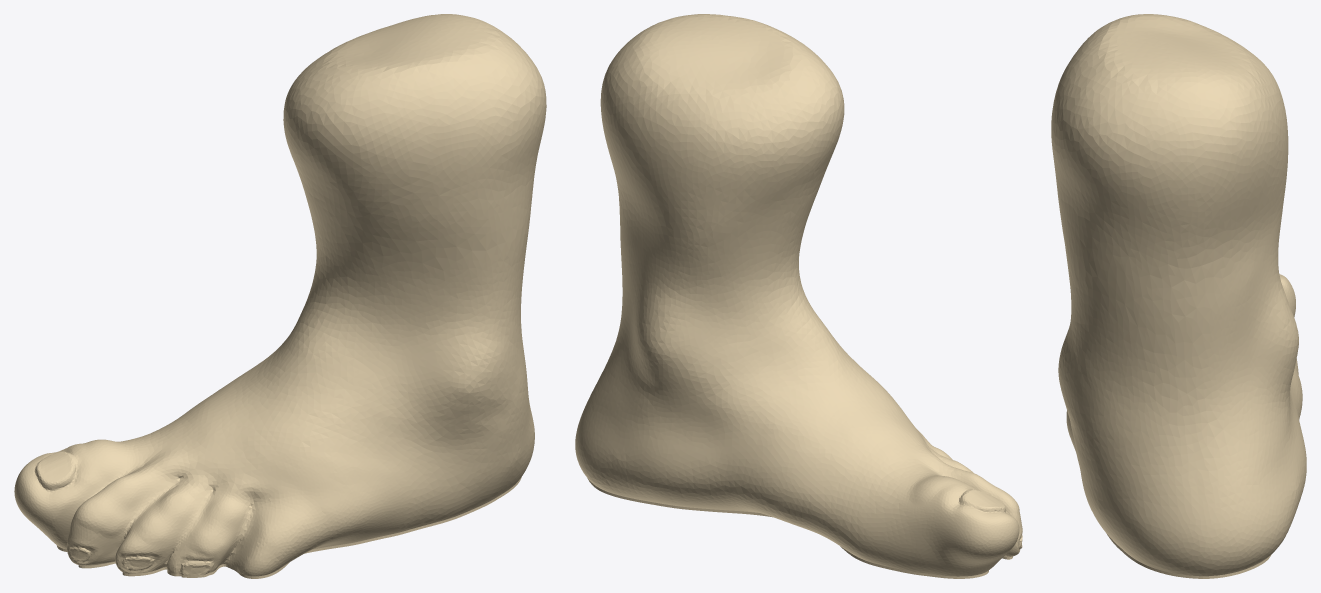
File: monty_foot.gltf
3 renders of one model, left to right at view 1: azimuth 30°, elevation 25°; view 2: azimuth 150°, elevation 25°; view 3: azimuth 270°, elevation 25°, orthographic. The views are drawn at different scales.
Parts seen in each view (by area): view 1: Montysfoot; view 2: Montysfoot; view 3: Montysfoot.
Part boxes in pixels (box(x1,y1,x2,y2)): Montysfoot: box(14, 14, 546, 578); Montysfoot: box(575, 14, 1022, 578); Montysfoot: box(1051, 14, 1306, 578).
Bounding box in the file's own units: 1.09 × 1 × 0.4845.
